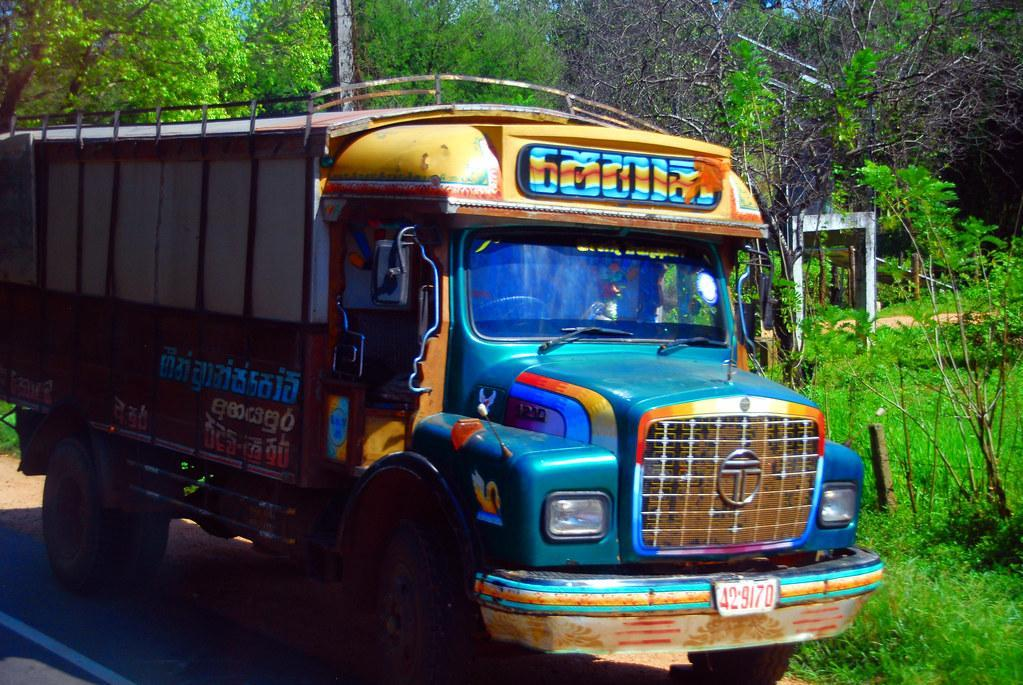truck: (1, 74, 882, 685)
